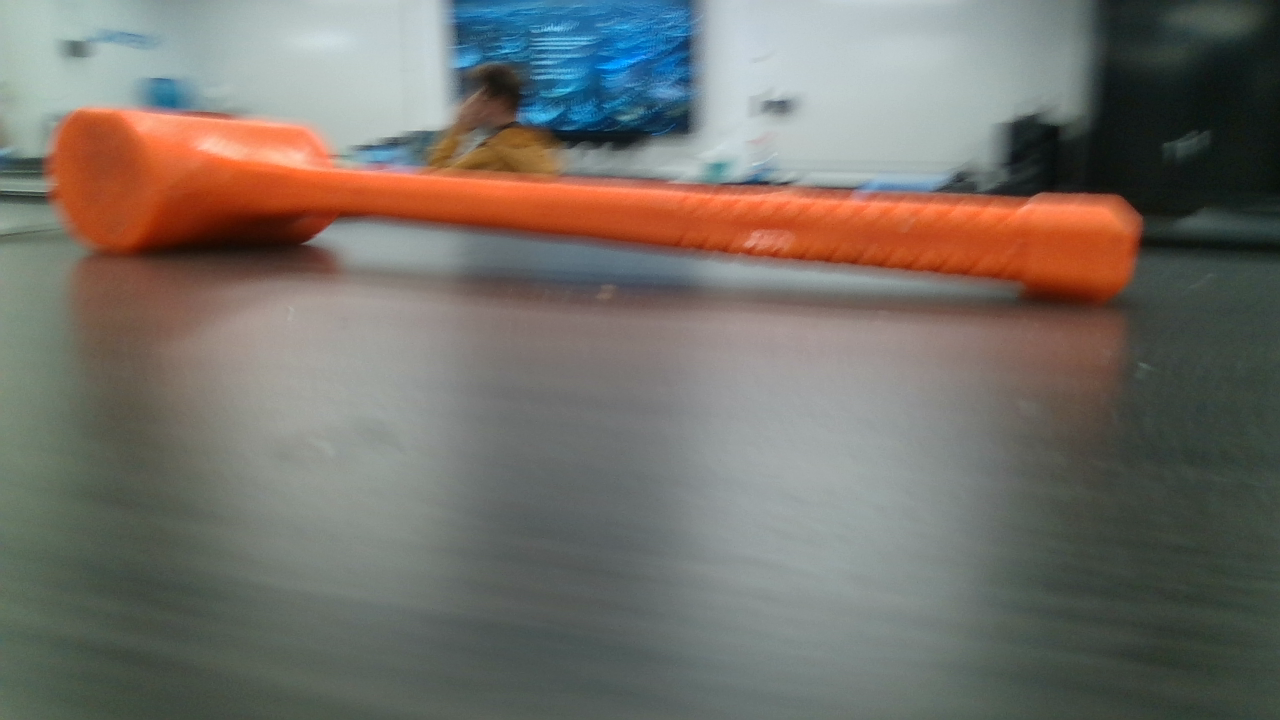Orange Hammer: (53, 106, 1136, 305)
